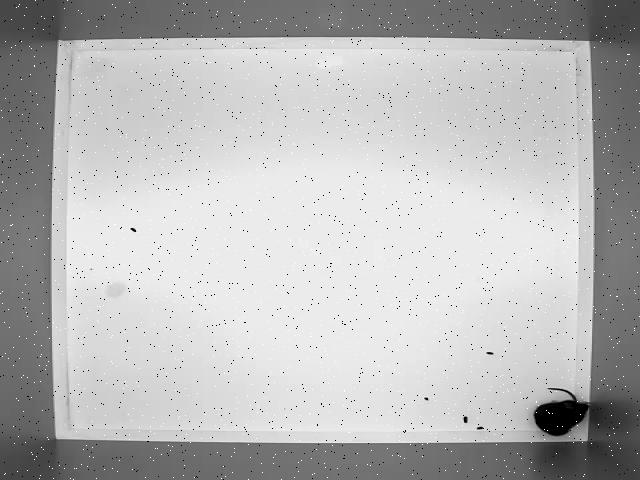Tikus: (534, 385, 590, 436)
